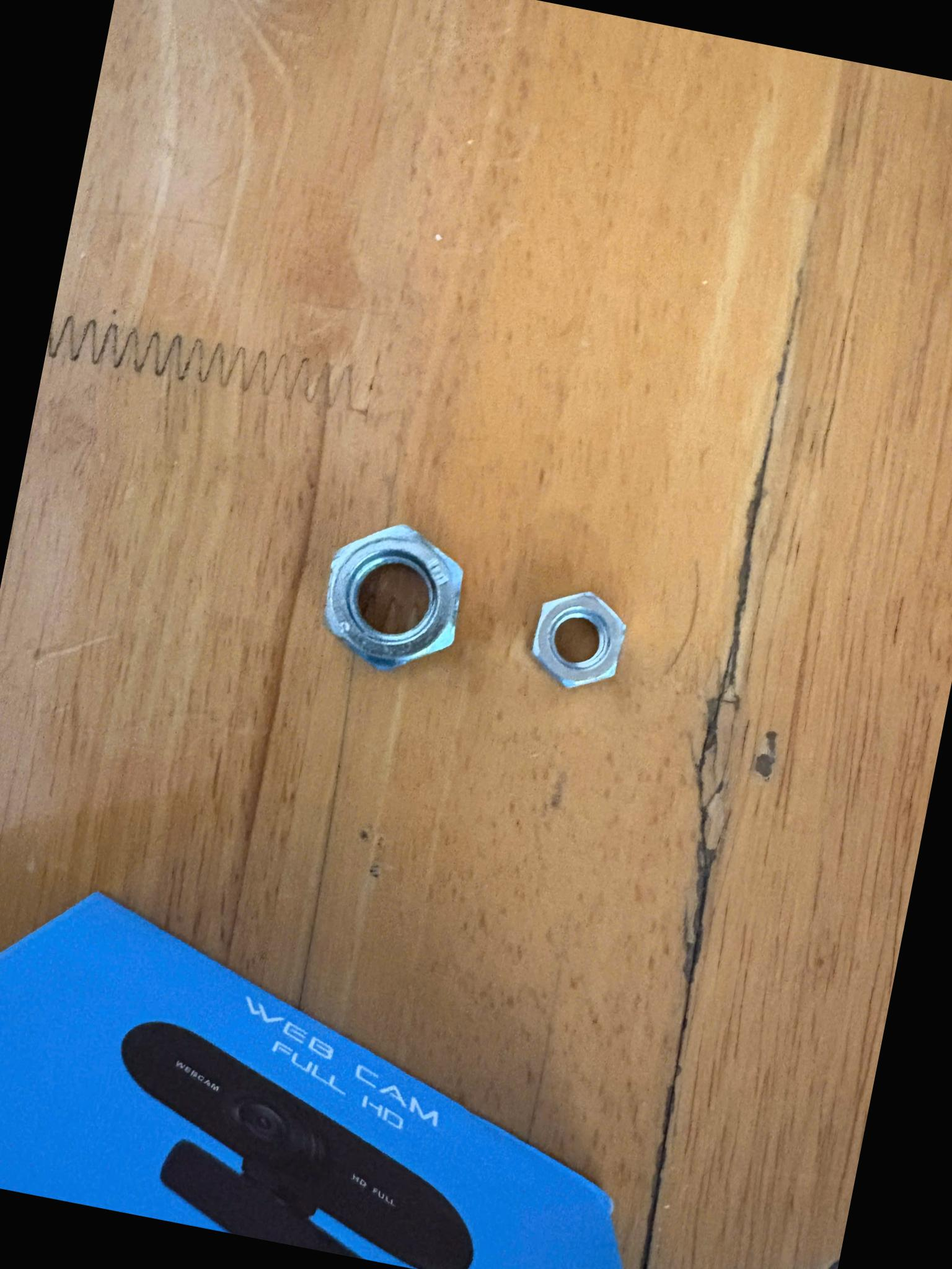nut: (272, 494, 496, 707), (497, 577, 667, 713)
